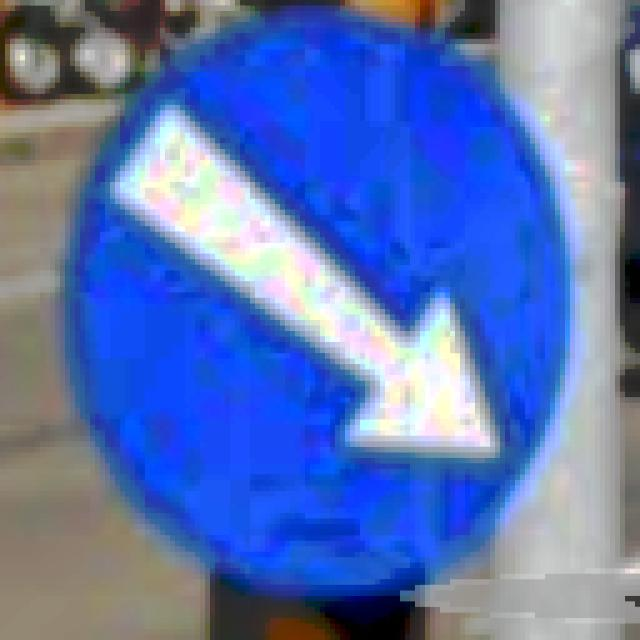thisway: (55, 0, 585, 601)
